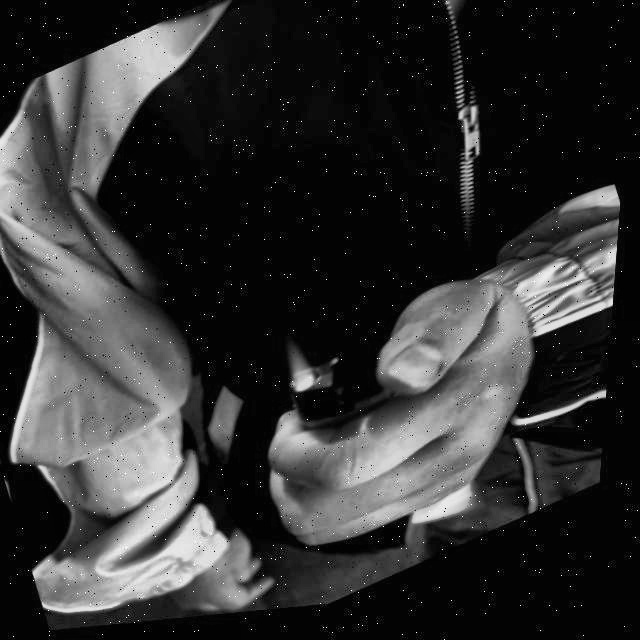Fire: (280, 337, 322, 389)
